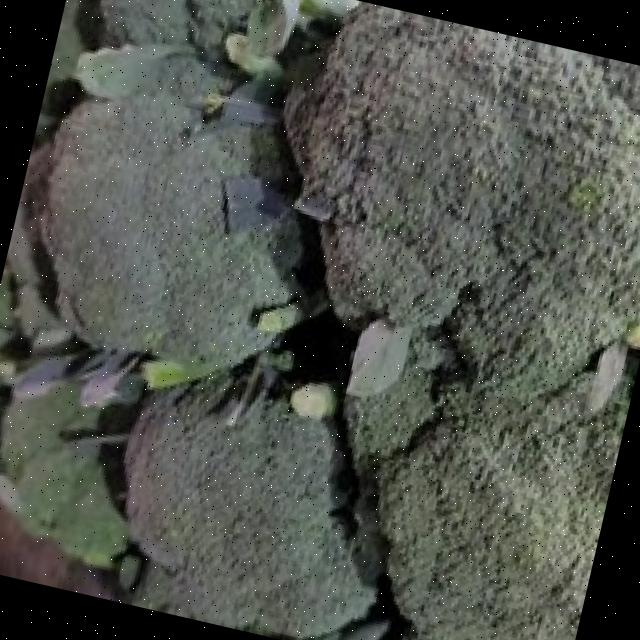Broccoli: (284, 2, 640, 640), (284, 3, 640, 640), (41, 62, 302, 365), (41, 93, 303, 368), (125, 359, 375, 640), (124, 366, 375, 639)
